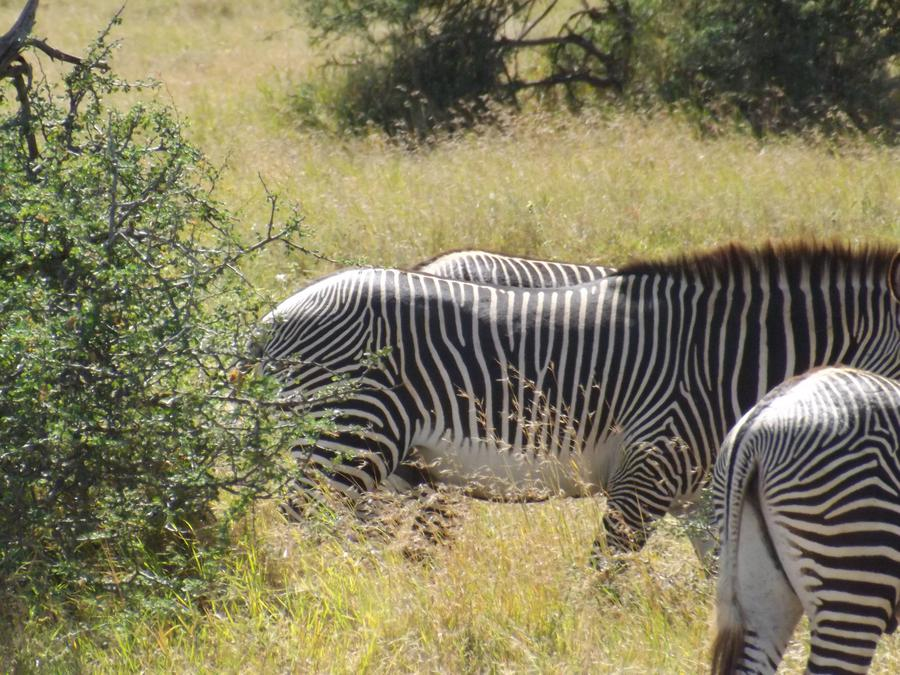zebra_grevys: (260, 239, 684, 500)
